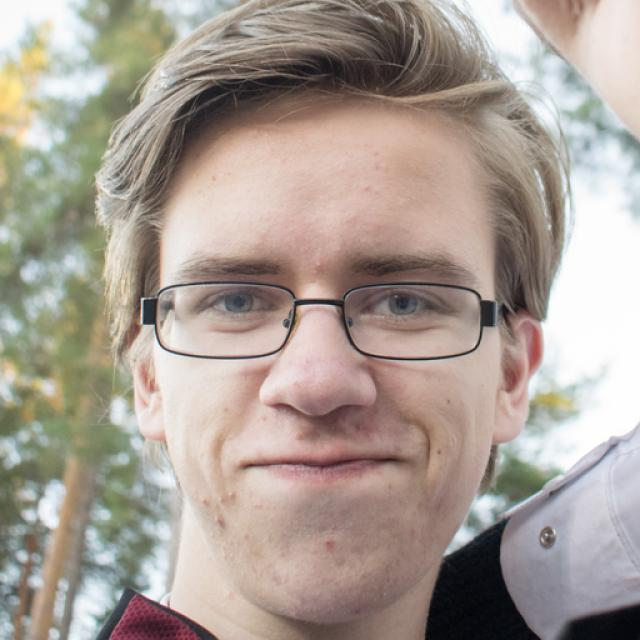Acne: (316, 530, 338, 560), (204, 514, 230, 535), (287, 427, 307, 454), (190, 493, 213, 516), (306, 255, 328, 276), (333, 240, 353, 261), (213, 487, 227, 514), (219, 486, 237, 505)
